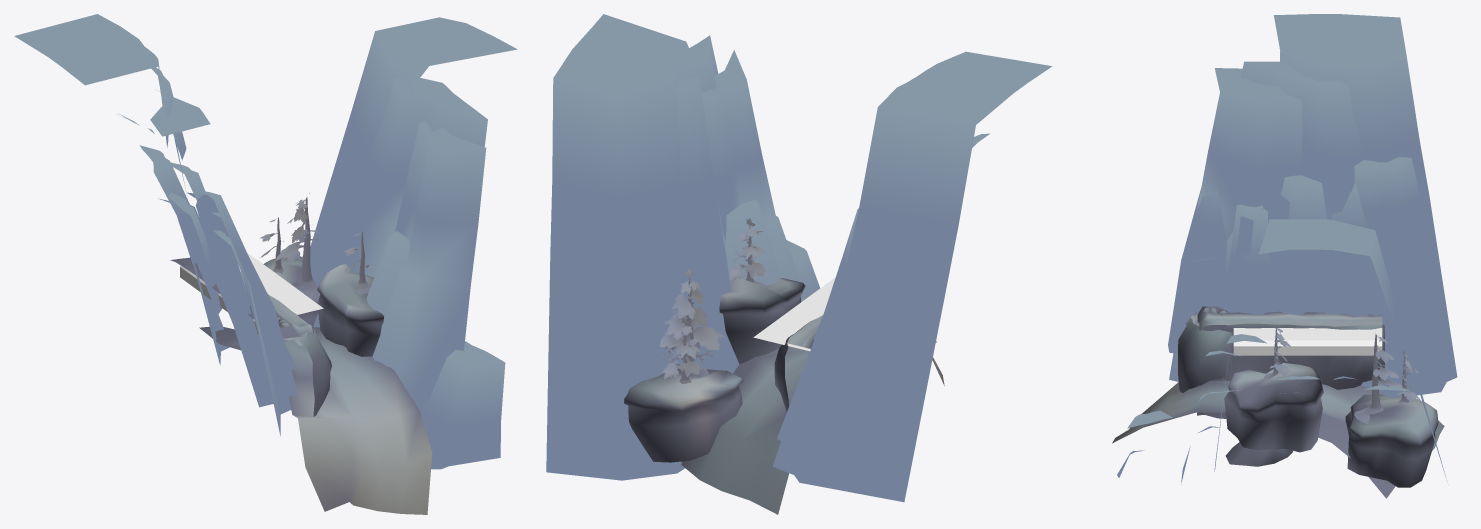
Rendered from Arctic_Narrows_Right_Transition_Pre_A.glb.
3 views of the same model, side by side, from view 1: azimuth 30°, elevation 25°; view 2: azimuth 150°, elevation 25°; view 3: azimuth 270°, elevation 25° (orthographic). The views are drawn at different scales.
Parts seen in each view (by area): view 1: Arctic_Narrows_Right_Transition_Pre_A, inv_fill; view 2: Arctic_Narrows_Right_Transition_Pre_A, inv_fill; view 3: Arctic_Narrows_Right_Transition_Pre_A, inv_fill.
Part boxes in pixels (bbox=[...]): Arctic_Narrows_Right_Transition_Pre_A: bbox=[14, 14, 517, 514]; inv_fill: bbox=[180, 252, 323, 334]; Arctic_Narrows_Right_Transition_Pre_A: bbox=[546, 14, 1052, 514]; inv_fill: bbox=[753, 277, 835, 351]; Arctic_Narrows_Right_Transition_Pre_A: bbox=[1112, 14, 1457, 498]; inv_fill: bbox=[1233, 328, 1382, 355].
Size of what is drawn, in the model's own units: 24.42 by 22.62 by 21.54.
